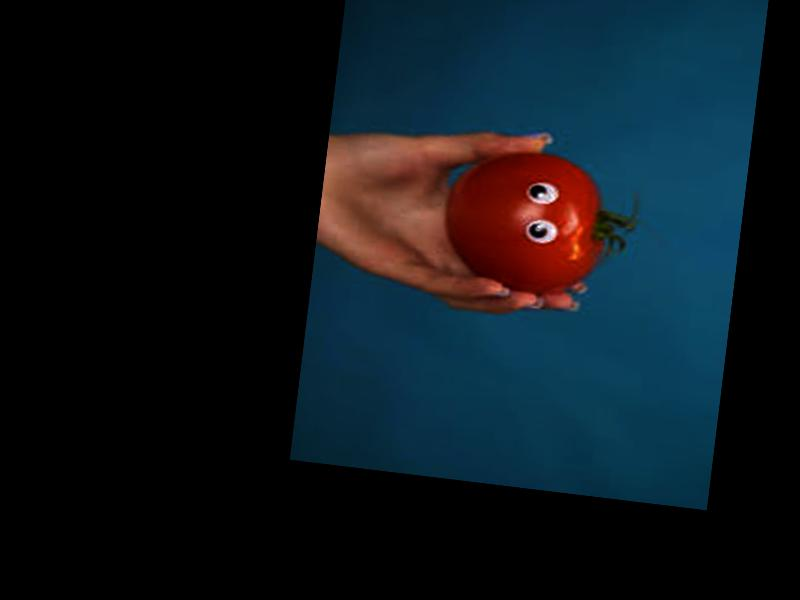Tomato: (436, 141, 615, 302)
